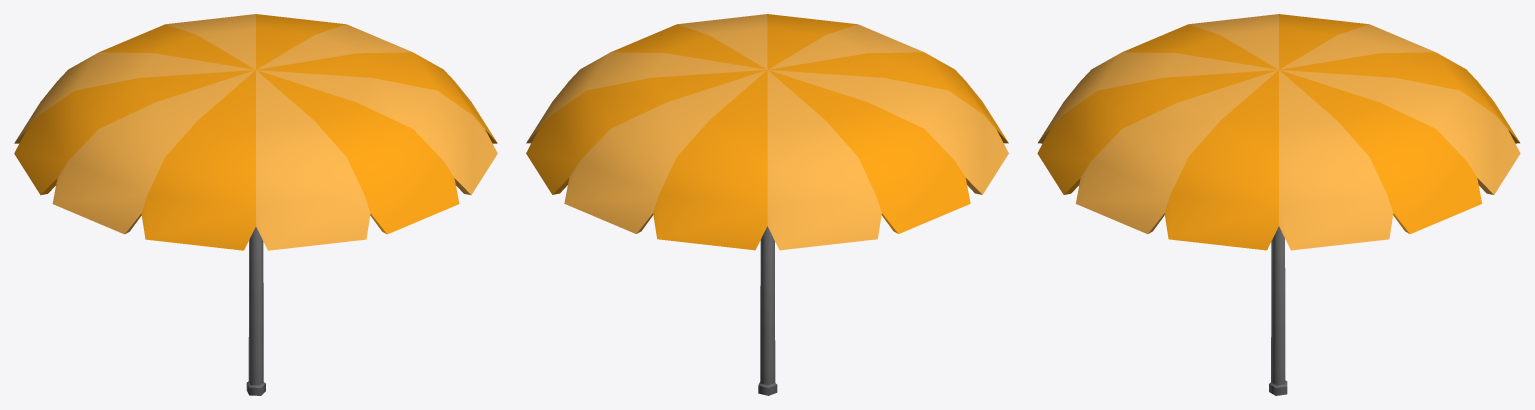
File: Parasol_1_F.fbx
3 renders of one model, left to right at view 1: azimuth 30°, elevation 25°; view 2: azimuth 150°, elevation 25°; view 3: azimuth 270°, elevation 25°, orthographic.
Parts seen in each view (by area): view 1: Parasol_1_F; view 2: Parasol_1_F; view 3: Parasol_1_F.
Boxes of the visible parts, box(x1,y1,x2,y2) form: Parasol_1_F: box(14, 14, 497, 395); Parasol_1_F: box(526, 14, 1008, 395); Parasol_1_F: box(1037, 14, 1520, 395).
Size of the model in its own units: 222 by 163 by 222.
